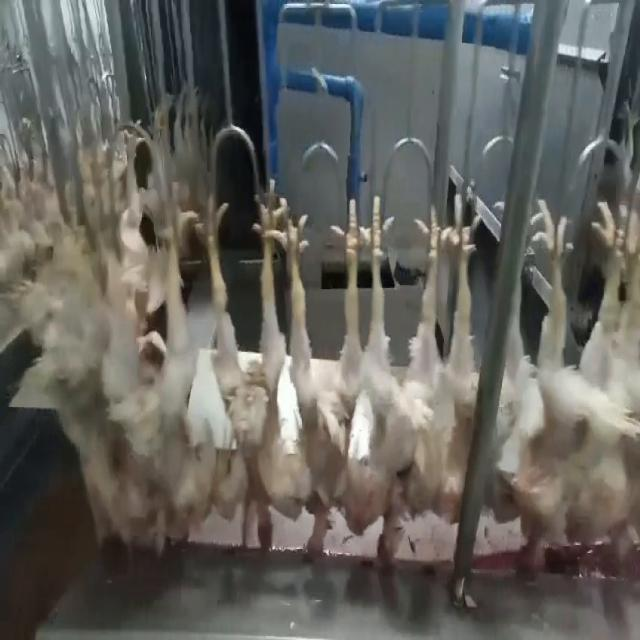chicken: (514, 202, 632, 586), (351, 194, 446, 576), (190, 166, 280, 554), (101, 170, 185, 564), (275, 189, 362, 566), (421, 182, 494, 531)
